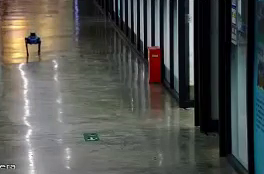robot dog: (22, 31, 42, 60)
